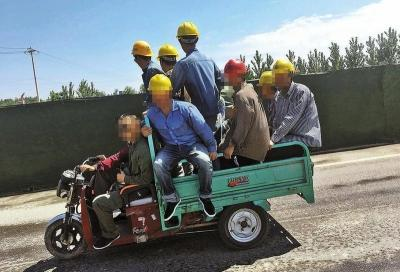driver: (47, 110, 151, 258)
overloading: (42, 21, 325, 263)
passenger: (141, 70, 219, 223), (272, 55, 321, 152), (219, 55, 260, 170), (176, 20, 220, 112), (116, 33, 157, 78), (256, 65, 275, 105), (154, 39, 176, 71)
